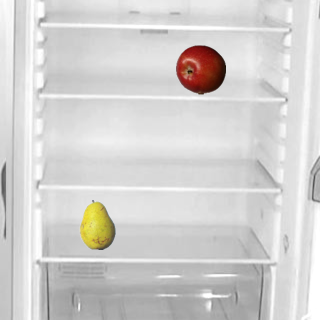Apple Braeburn: (175, 44, 225, 94)
Pear Monster: (72, 199, 122, 249)
